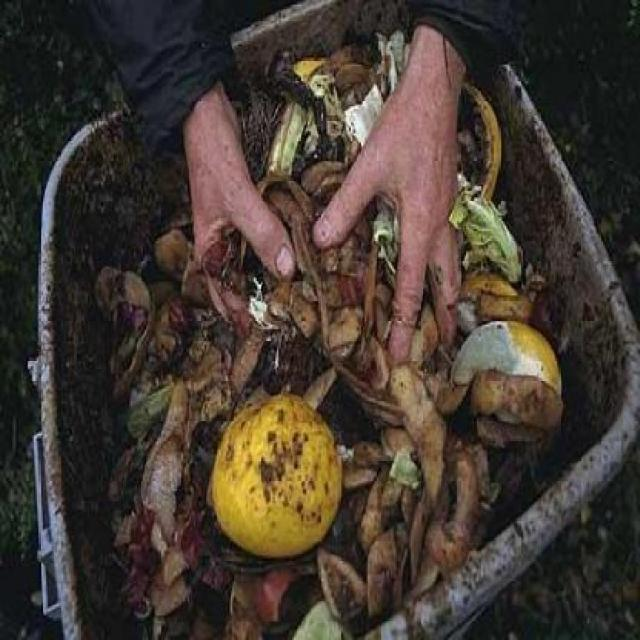garbage: (214, 305, 421, 610), (89, 226, 200, 633), (458, 125, 566, 474), (242, 51, 349, 168), (420, 340, 474, 551)
